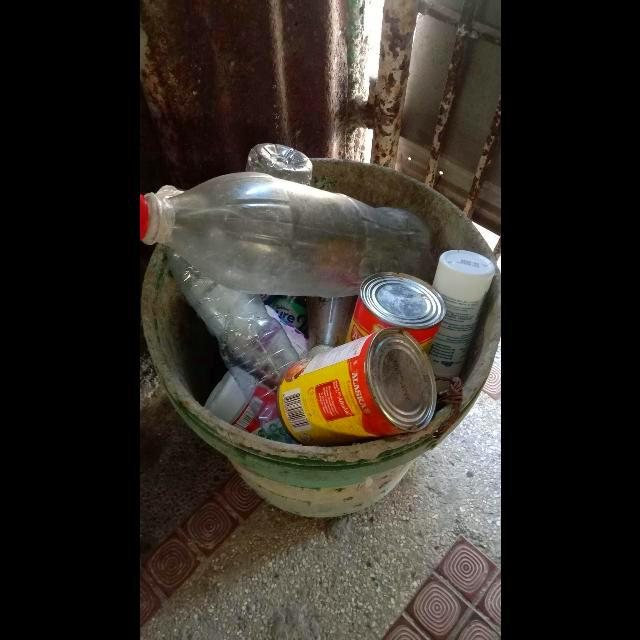aluminum: (278, 324, 435, 440), (341, 271, 445, 354)
plastic_bottle: (139, 172, 432, 299), (164, 250, 295, 442), (423, 249, 495, 400)
